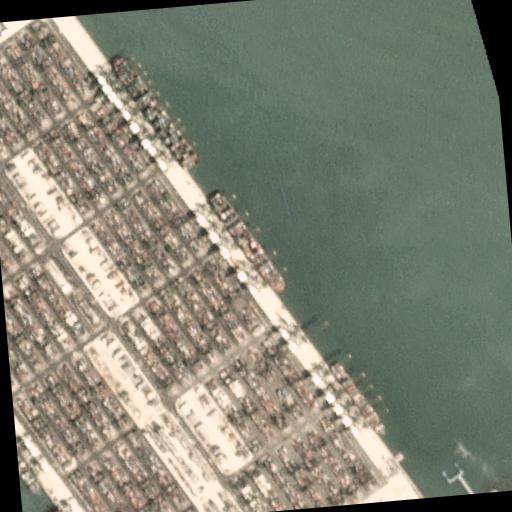ship: (112, 49, 196, 176), (206, 187, 284, 297), (330, 358, 386, 439)
